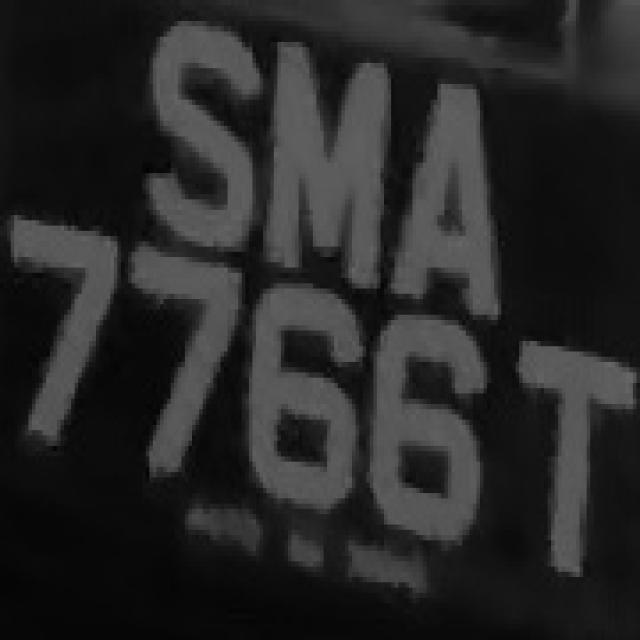6: (370, 278, 490, 561), (260, 268, 366, 520)
7: (124, 220, 246, 493), (11, 199, 117, 462)
A: (391, 58, 526, 310)
M: (267, 21, 391, 294)
S: (139, 11, 263, 262)
T: (501, 336, 640, 593)
